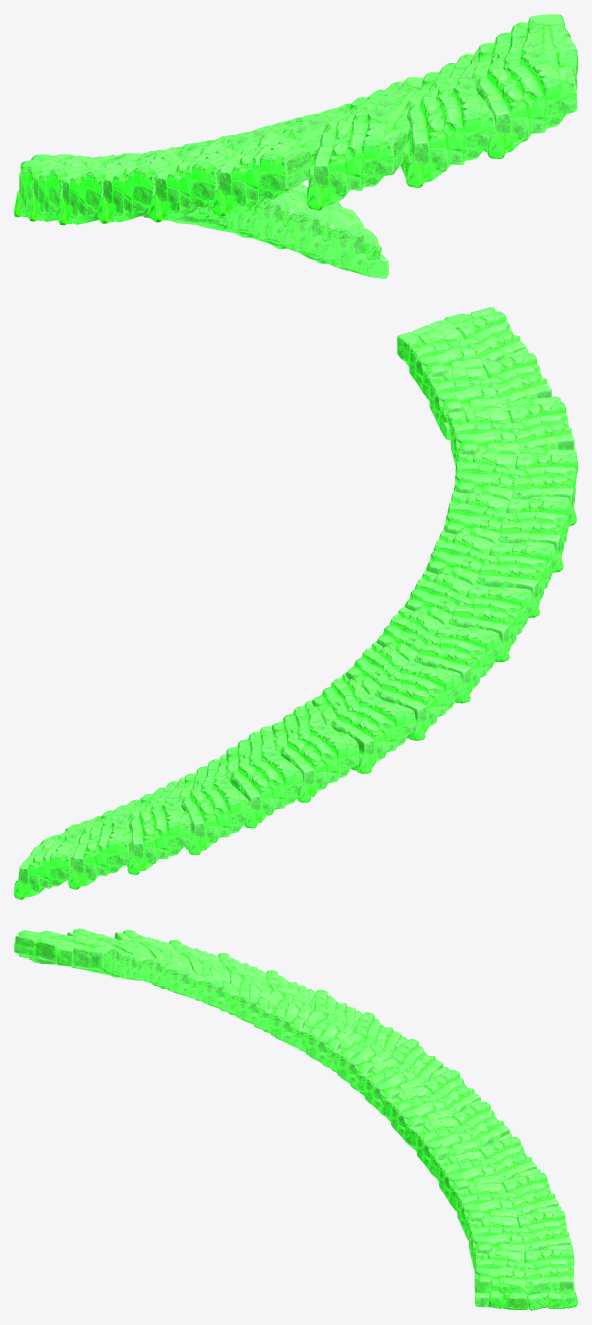
File: StairCase.fbx
The picture shows the model from 3 angles, top to bottom: view 1: azimuth 30°, elevation 25°; view 2: azimuth 150°, elevation 25°; view 3: azimuth 270°, elevation 25°; orthographic projection. The views are drawn at different scales.
Visible parts, largest first — view 1: Dn_HL_SD09_Staircase_A.mo; view 2: Dn_HL_SD09_Staircase_A.mo; view 3: Dn_HL_SD09_Staircase_A.mo.
Part boxes in pixels (<box>): Dn_HL_SD09_Staircase_A.mo: <box>14,14,577,278</box>; Dn_HL_SD09_Staircase_A.mo: <box>14,307,577,899</box>; Dn_HL_SD09_Staircase_A.mo: <box>14,928,577,1310</box>.
Bounding box in the file's own units: 3339 × 3521 × 5693.
